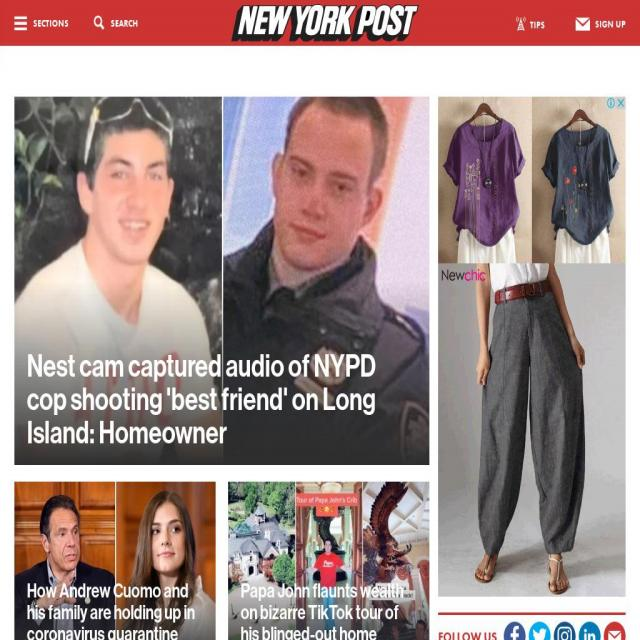follow-options: (440, 612, 635, 638)
options: (8, 12, 74, 46)
search: (89, 8, 150, 38)
sign-up-option: (568, 5, 632, 48)
